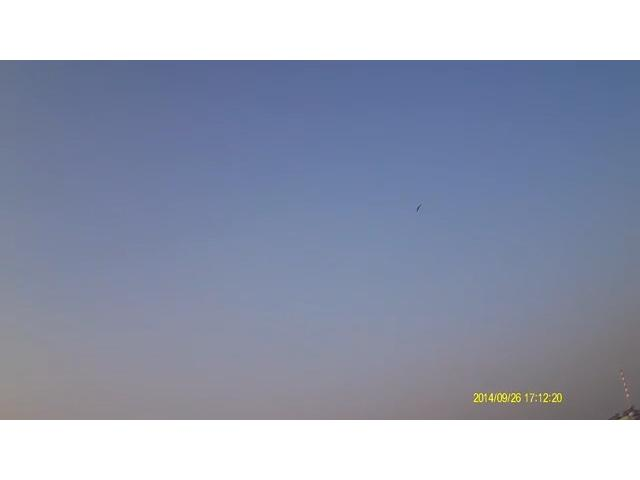Anti-Drone: (412, 200, 428, 215)
